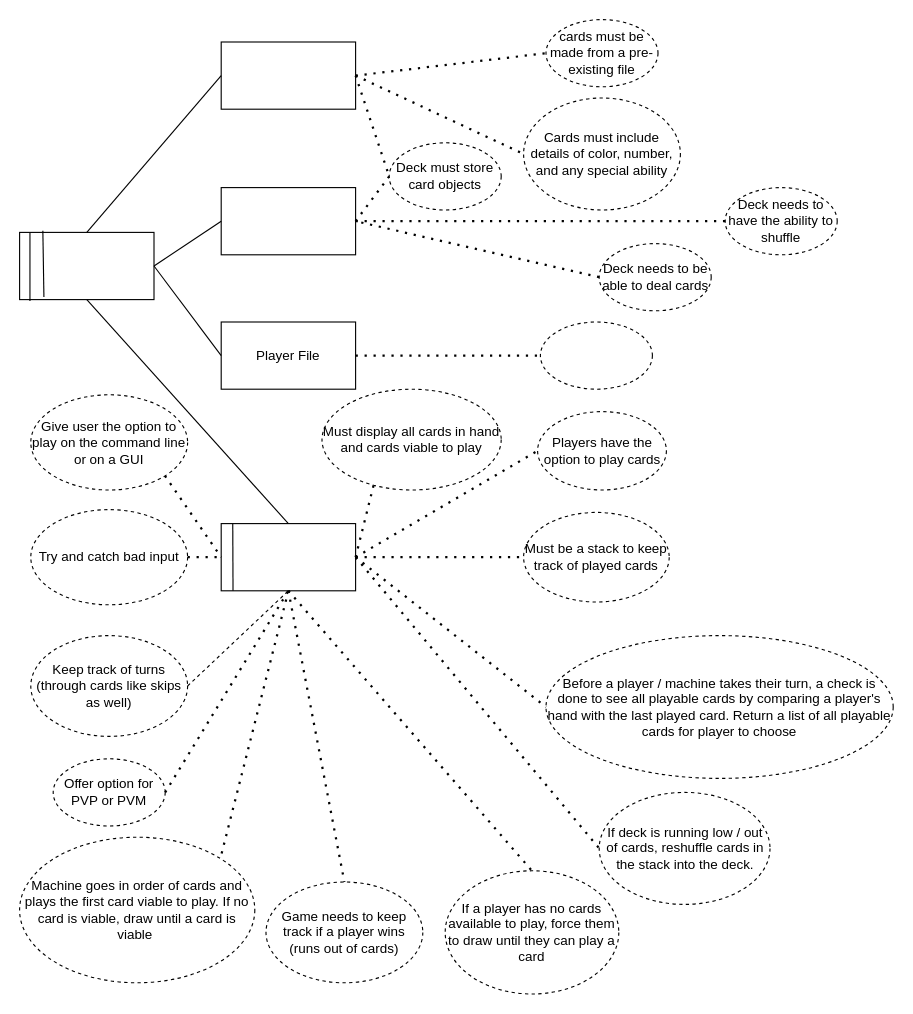
The diagram is 913 pixels wide and 1014 high, and some of its shapes have lost their labels. The shapes that lost their labels are listed below. From the top down, each one's centre as x and y in pixels, then its label:
At pixel 288 75: "Cards File".
At pixel 288 220: "Deck File".
At pixel 86 265: "Zwei".
At pixel 595 355: "Must keep track of player's hand".
At pixel 288 556: "Main / driver".
